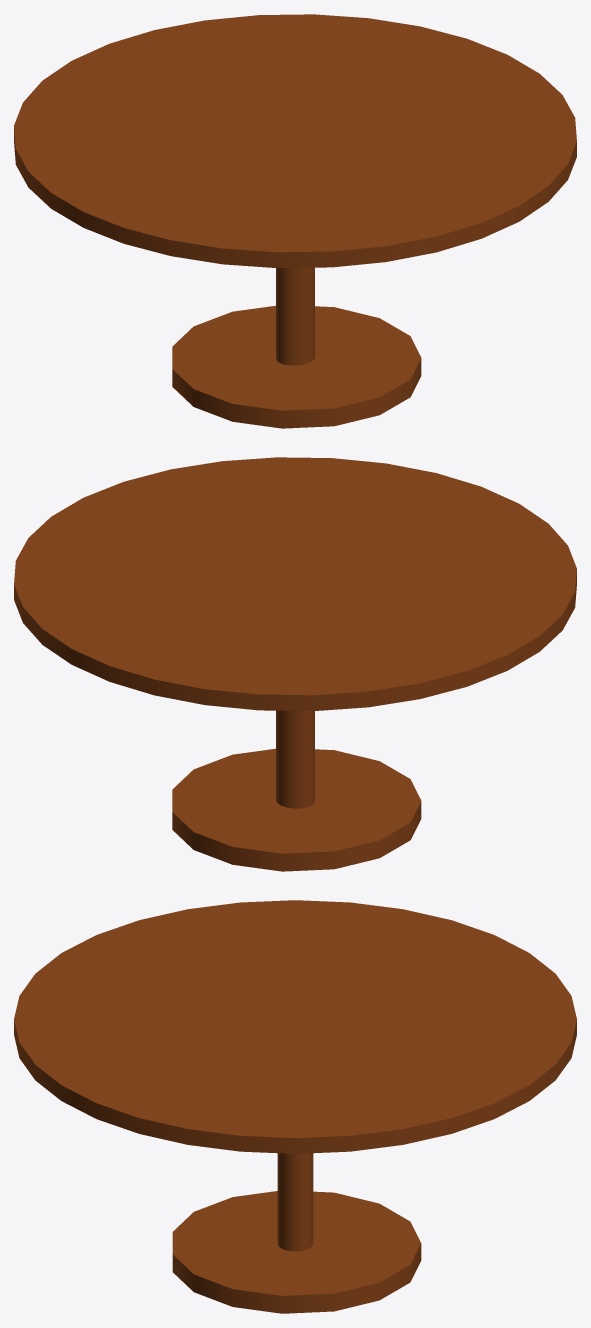
Rendered from roundtable.fbx.
3 renders of one model, top to bottom at view 1: azimuth 30°, elevation 25°; view 2: azimuth 150°, elevation 25°; view 3: azimuth 270°, elevation 25°, orthographic.
Parts seen in each view (by area): view 1: roundtable; view 2: roundtable; view 3: roundtable.
Boxes of the visible parts, x1=… form: roundtable: x1=14, y1=14, x2=576, y2=428; roundtable: x1=14, y1=457, x2=576, y2=871; roundtable: x1=14, y1=900, x2=576, y2=1313.
Bounding box in the file's own units: 124 × 58.72 × 124.
